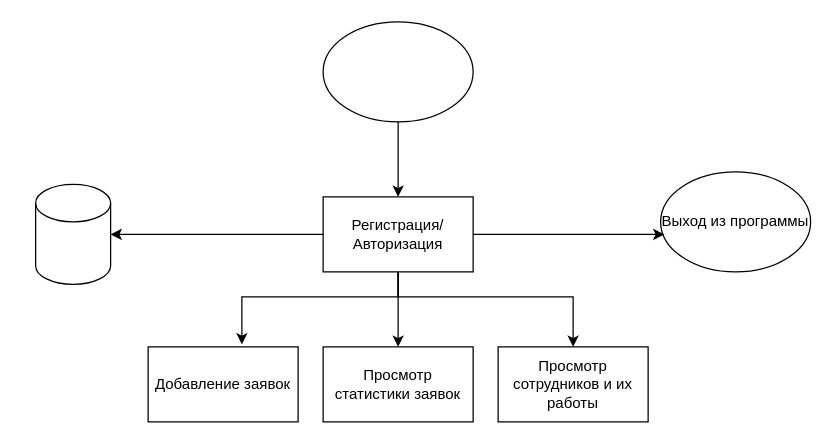
Image size: 833x444. Some labels were removed from this diagram. The shapes that lost their labels are listed below. From the top down, each one's box as (x1, y1, x2, y2) in pixels, then its label:
(322, 21, 473, 122): Вход в программу
(34, 183, 111, 284): База данных пользователей
